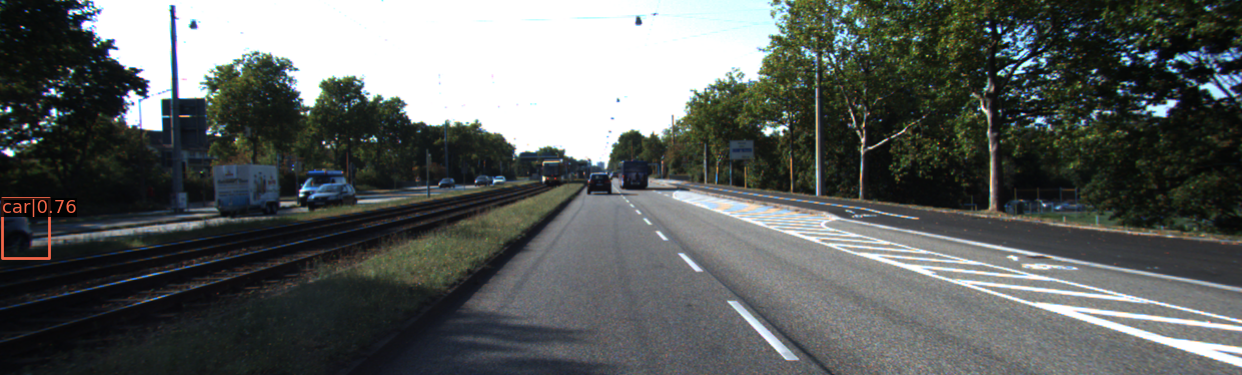car: (304, 184, 362, 214), (589, 174, 611, 195)
